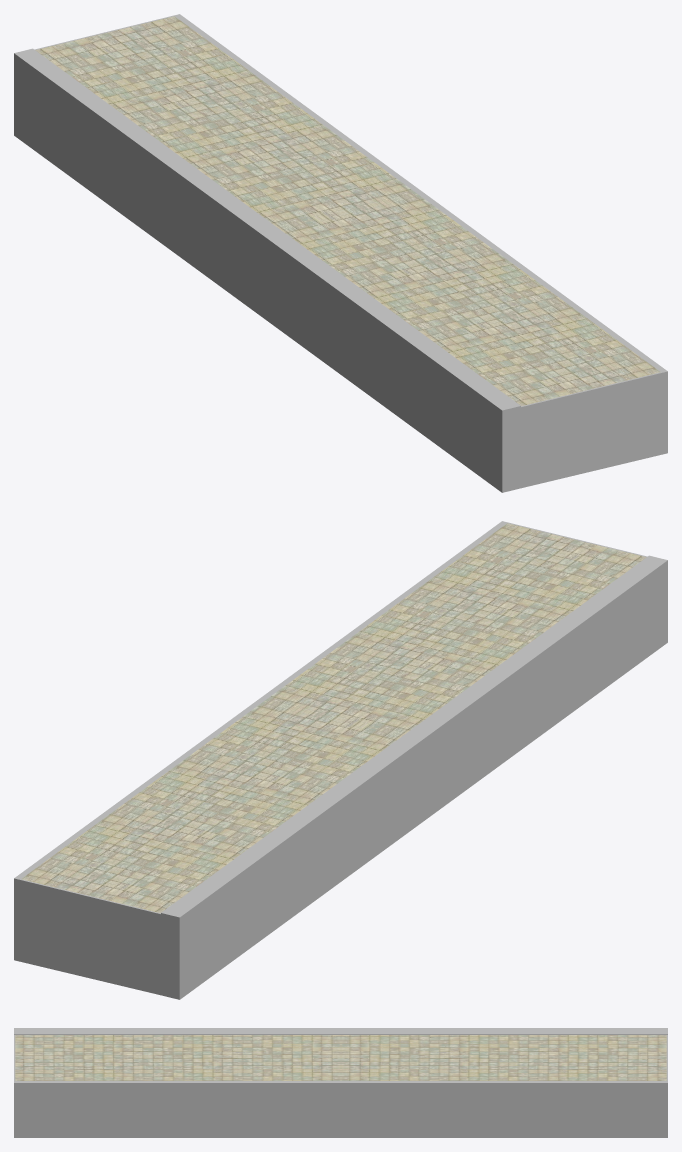
File: road_w01b.fbx
3 views of the same model, one above another, from view 1: azimuth 30°, elevation 25°; view 2: azimuth 150°, elevation 25°; view 3: azimuth 270°, elevation 25° (orthographic). The views are drawn at different scales.
Visible parts, largest first — view 1: road_w01b.; view 2: road_w01b.; view 3: road_w01b..
Part boxes in pixels (left/top/right/bottom): road_w01b.: left=14, top=14, right=667, bottom=492; road_w01b.: left=14, top=521, right=667, bottom=999; road_w01b.: left=14, top=1028, right=667, bottom=1137.
Bounding box in the file's own units: 4.71 × 2.26 × 24.
